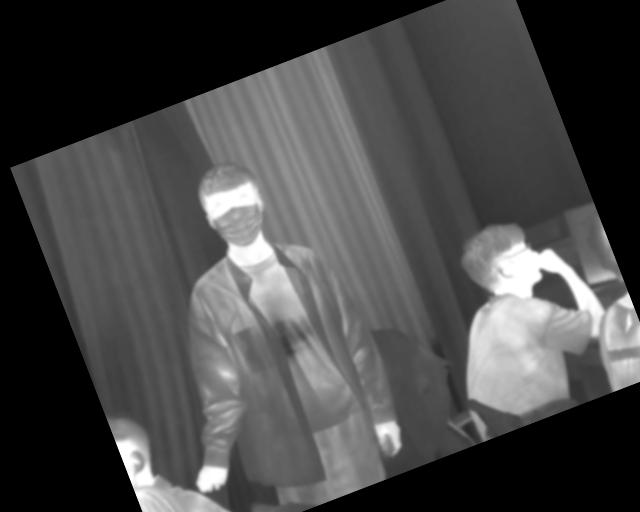face: (190, 153, 278, 258)
